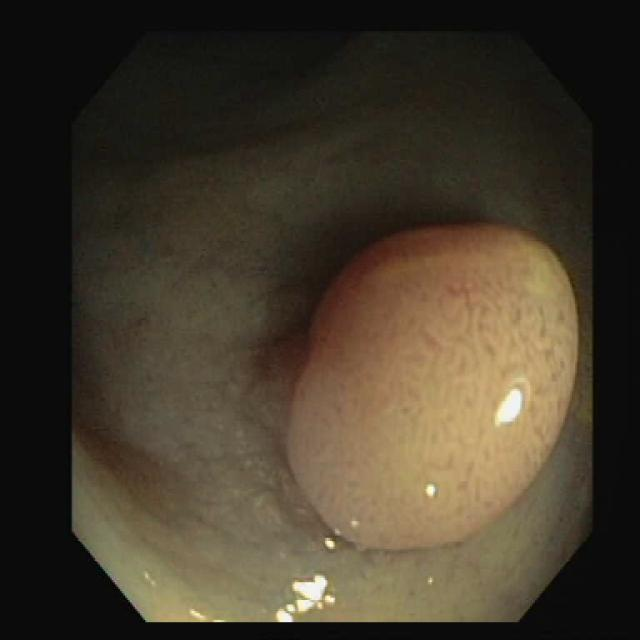tumor: (288, 227, 577, 542)
